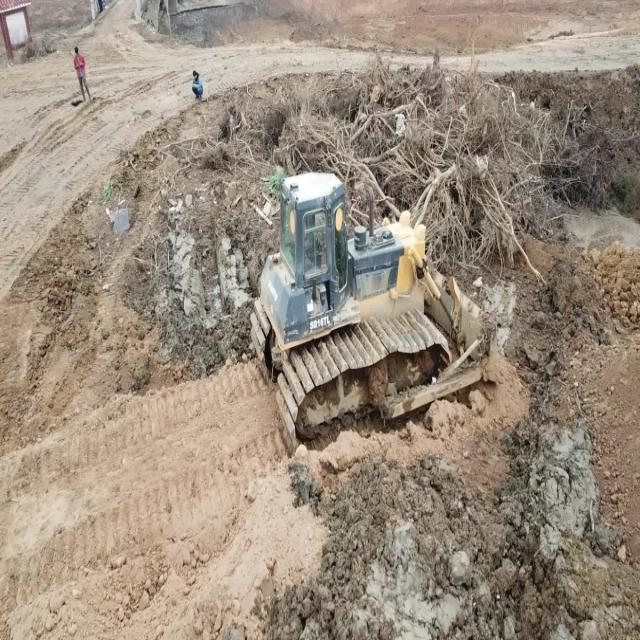machinery: (250, 172, 498, 451)
